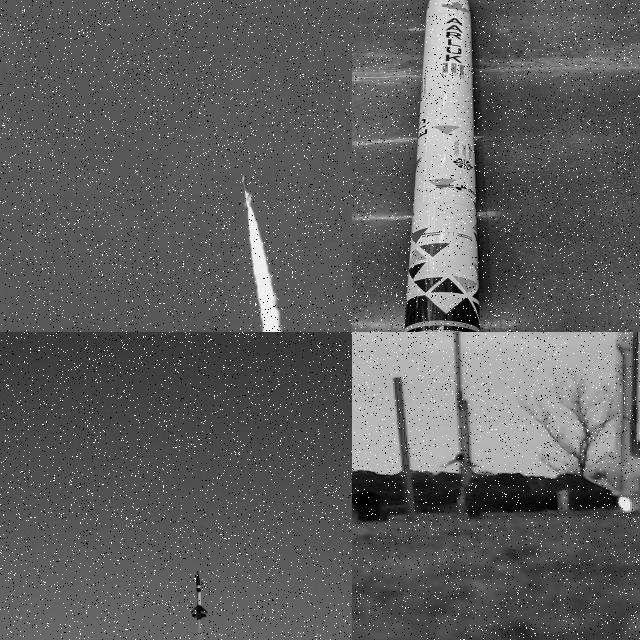Rocket: (404, 0, 481, 332), (579, 332, 640, 497), (191, 572, 209, 621), (242, 174, 254, 205)
